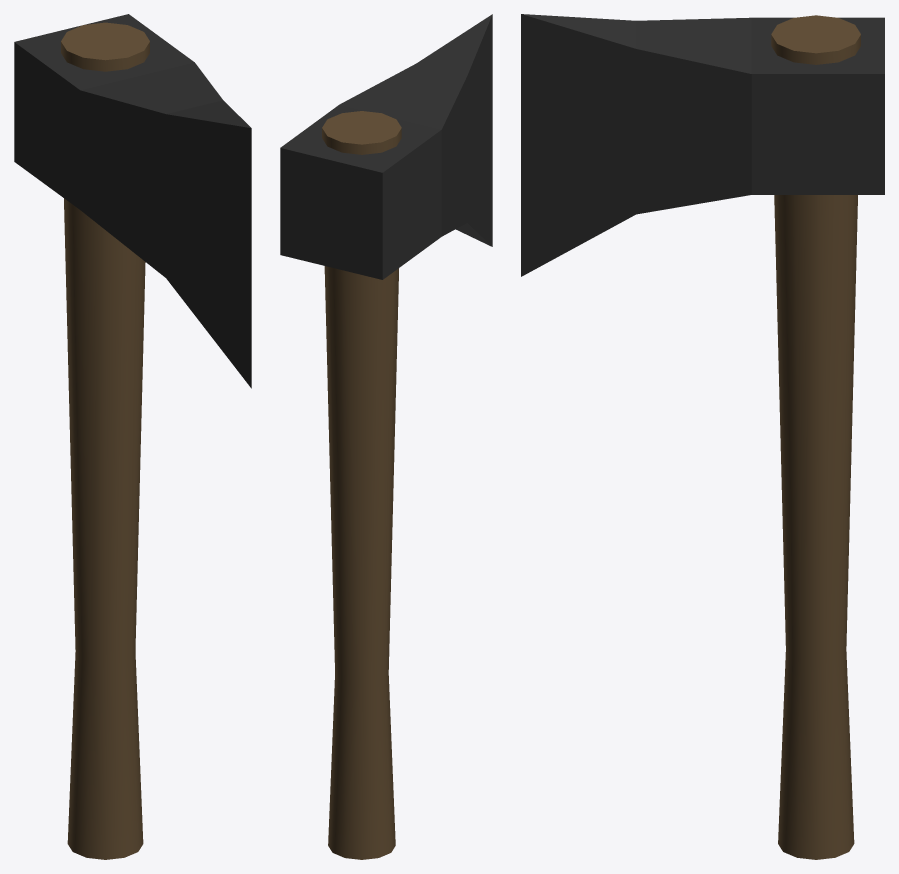
Rendered from Axe.glb.
3 renders of one model, left to right at view 1: azimuth 30°, elevation 25°; view 2: azimuth 150°, elevation 25°; view 3: azimuth 270°, elevation 25°, orthographic. The views are drawn at different scales.
Parts seen in each view (by area): view 1: BezierCurve; view 2: BezierCurve; view 3: BezierCurve.
Part boxes in pixels (x1=…): BezierCurve: x1=14, y1=14, x2=251, y2=859; BezierCurve: x1=280, y1=14, x2=492, y2=859; BezierCurve: x1=521, y1=14, x2=884, y2=859.
Bounding box in the file's own units: 0.1712 × 1.18 × 0.4671.
